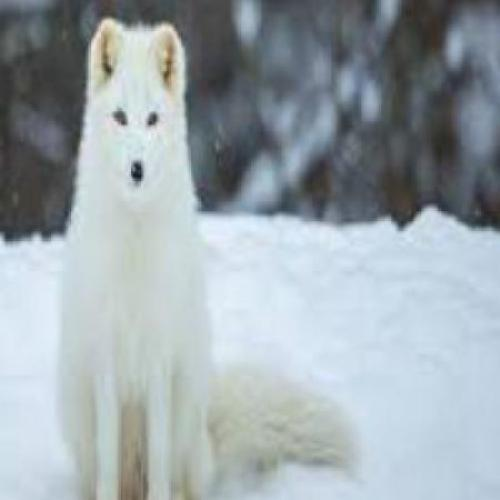arctic_fox-endangered: (59, 15, 362, 500)
